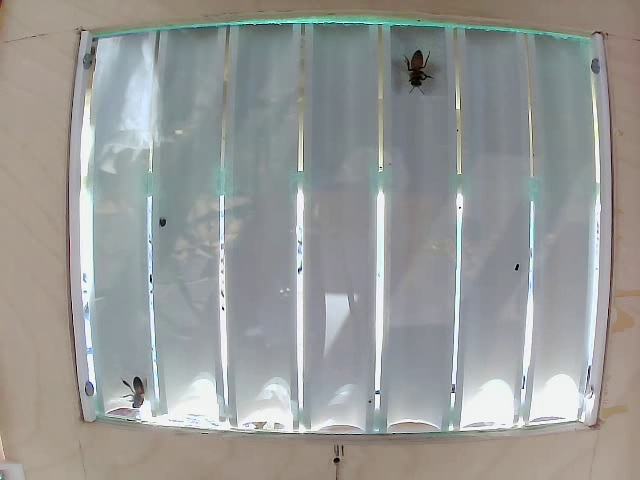bee: (404, 47, 431, 95)
